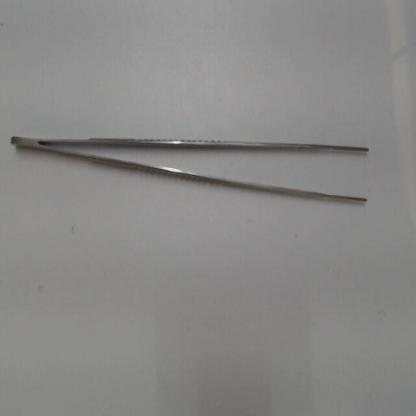DeBakey Dissector: (5, 126, 379, 223)
